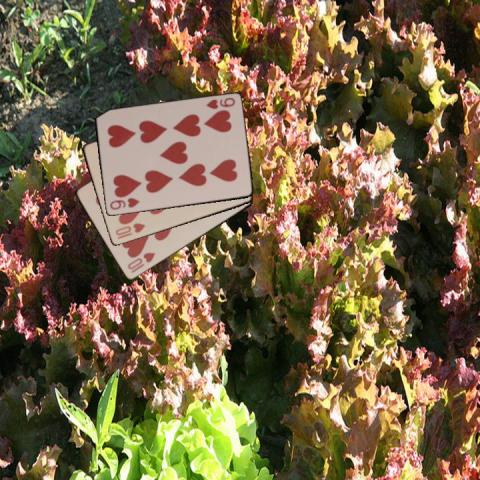10h: (125, 249, 156, 275), (112, 220, 147, 241)
9h: (106, 196, 140, 212), (203, 94, 236, 110)
